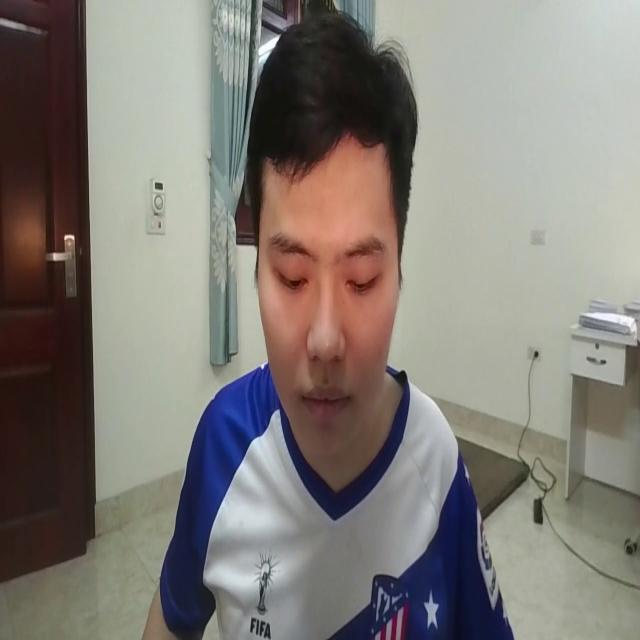student: (141, 10, 520, 640)
